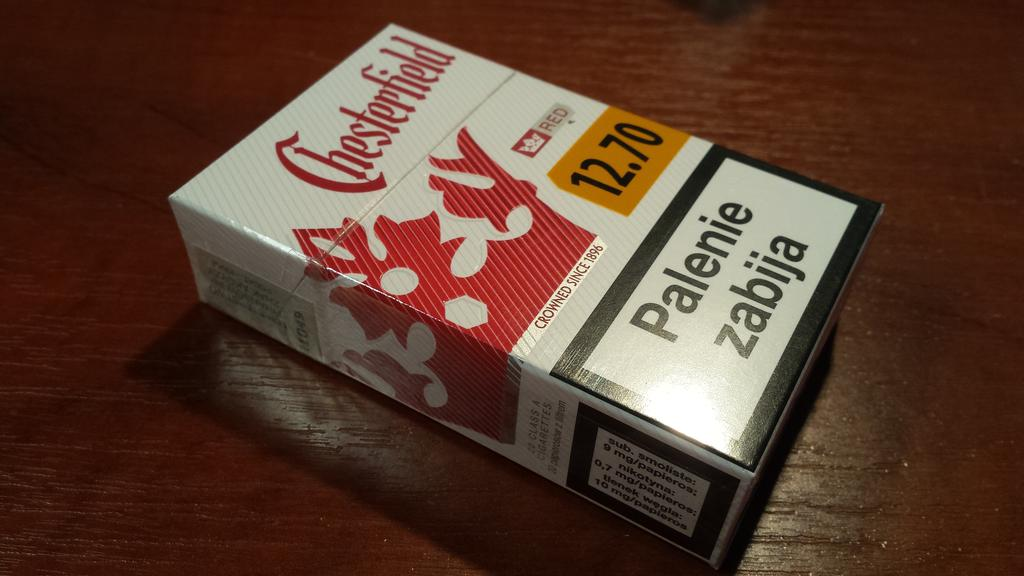chesterfield_red: (177, 37, 748, 346)
